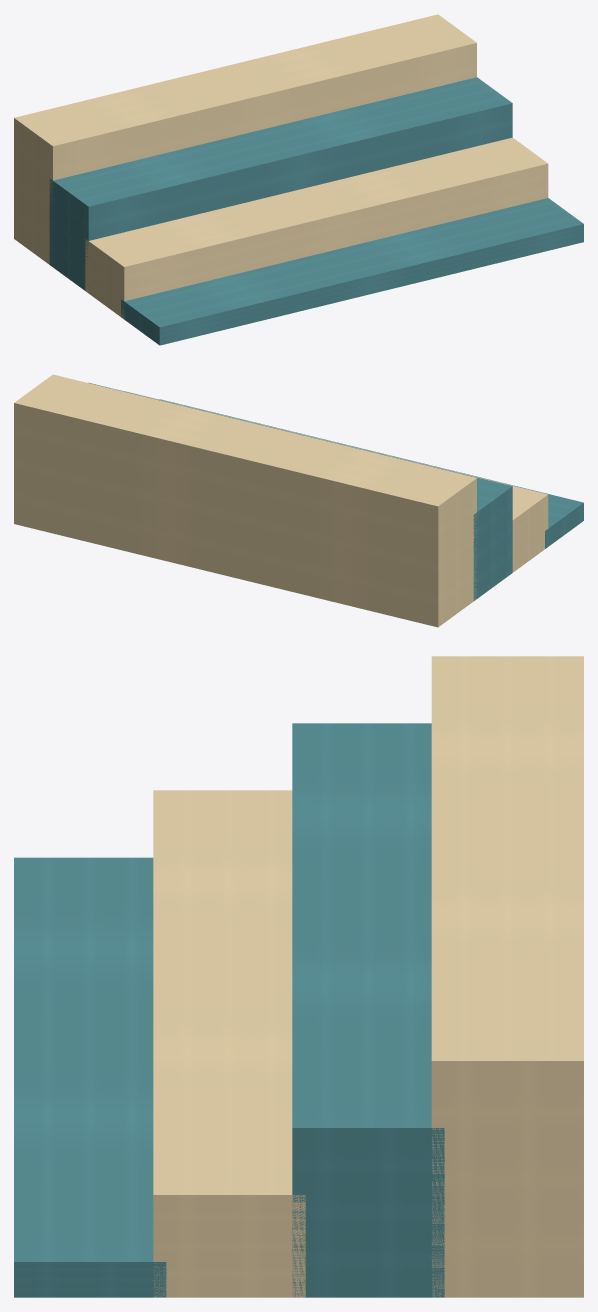
The model's file is atlas100-s071-a10.lod2.glb.
The picture shows the model from 3 angles, top to bottom: view 1: azimuth 30°, elevation 25°; view 2: azimuth 150°, elevation 25°; view 3: azimuth 270°, elevation 25°; orthographic projection. The views are drawn at different scales.
Visible parts, largest first — view 1: atlas100-s071-a10:part-003, atlas100-s071-a10:part-002, atlas100-s071-a10:part-001, atlas100-s071-a10:part-000; view 2: atlas100-s071-a10:part-003, atlas100-s071-a10:part-002, atlas100-s071-a10:part-001, atlas100-s071-a10:part-000; view 3: atlas100-s071-a10:part-003, atlas100-s071-a10:part-002, atlas100-s071-a10:part-001, atlas100-s071-a10:part-000.
Boxes of the visible parts, box(x1,y1,x2,y2) form: atlas100-s071-a10:part-003: box(14, 14, 476, 264); atlas100-s071-a10:part-002: box(49, 77, 512, 290); atlas100-s071-a10:part-001: box(85, 137, 548, 319); atlas100-s071-a10:part-000: box(121, 198, 583, 345); atlas100-s071-a10:part-003: box(14, 374, 476, 627); atlas100-s071-a10:part-002: box(88, 382, 512, 600); atlas100-s071-a10:part-001: box(124, 391, 548, 572); atlas100-s071-a10:part-000: box(159, 399, 583, 548); atlas100-s071-a10:part-003: box(431, 656, 583, 1297); atlas100-s071-a10:part-002: box(292, 723, 444, 1297); atlas100-s071-a10:part-001: box(153, 790, 305, 1297); atlas100-s071-a10:part-000: box(14, 857, 166, 1297).
Size of the model in its own units: 2.2 by 0.6 by 1.31.
2 materials, 2 textured.
